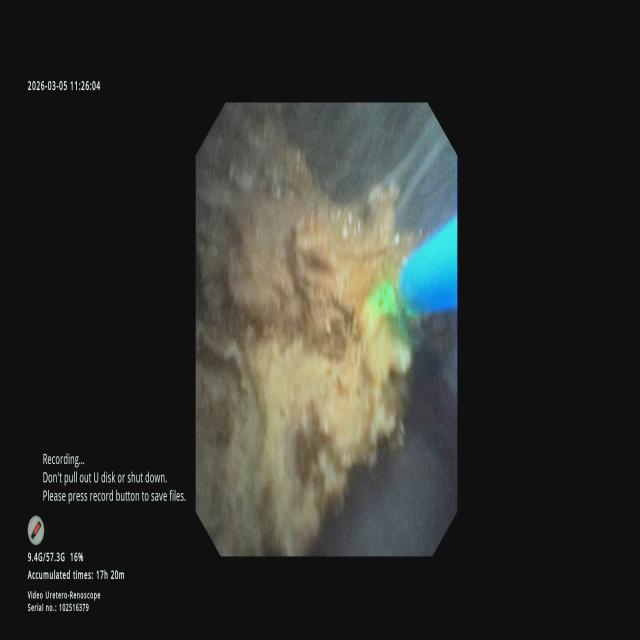laser_dot: (367, 281, 399, 319)
stone-new: (195, 103, 433, 555)
